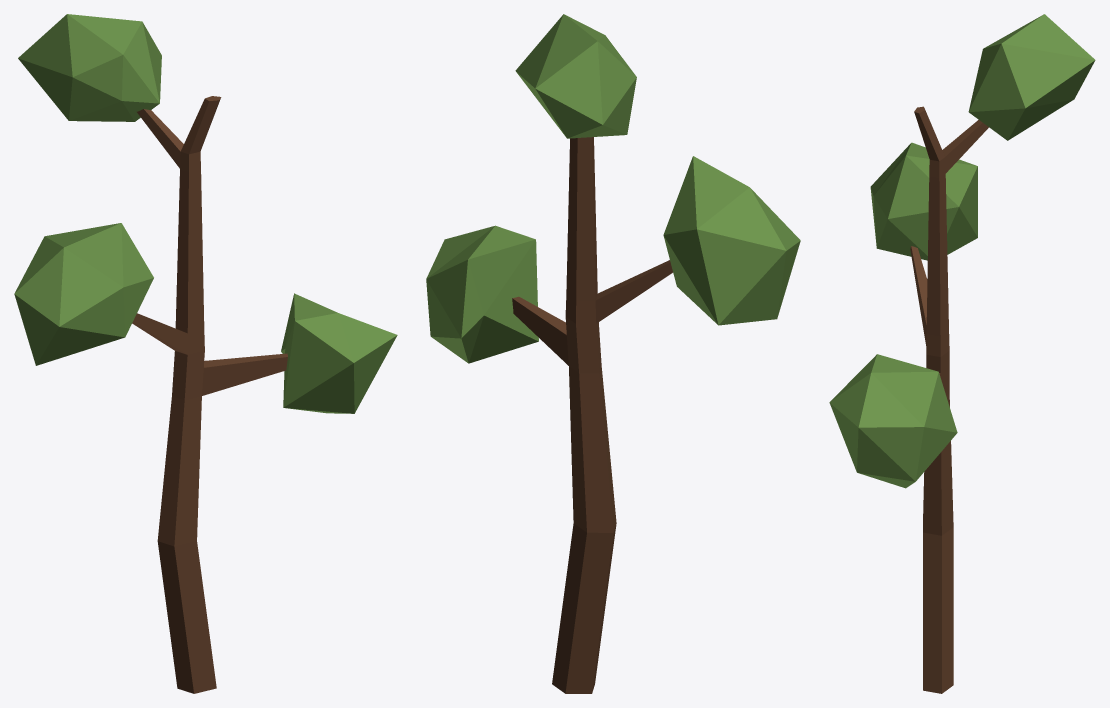
File: sapling1.fbx
The picture shows the model from 3 angles, left to right: view 1: azimuth 30°, elevation 25°; view 2: azimuth 150°, elevation 25°; view 3: azimuth 270°, elevation 25°; orthographic projection. The views are drawn at different scales.
Visible parts, largest first — view 1: Icosphere.001; view 2: Icosphere.001; view 3: Icosphere.001.
Part boxes in pixels (bbox=[...]): Icosphere.001: bbox=[14, 14, 397, 693]; Icosphere.001: bbox=[426, 14, 800, 693]; Icosphere.001: bbox=[829, 14, 1095, 693].
Bounding box in the file's own units: 104 × 186 × 70.67.
